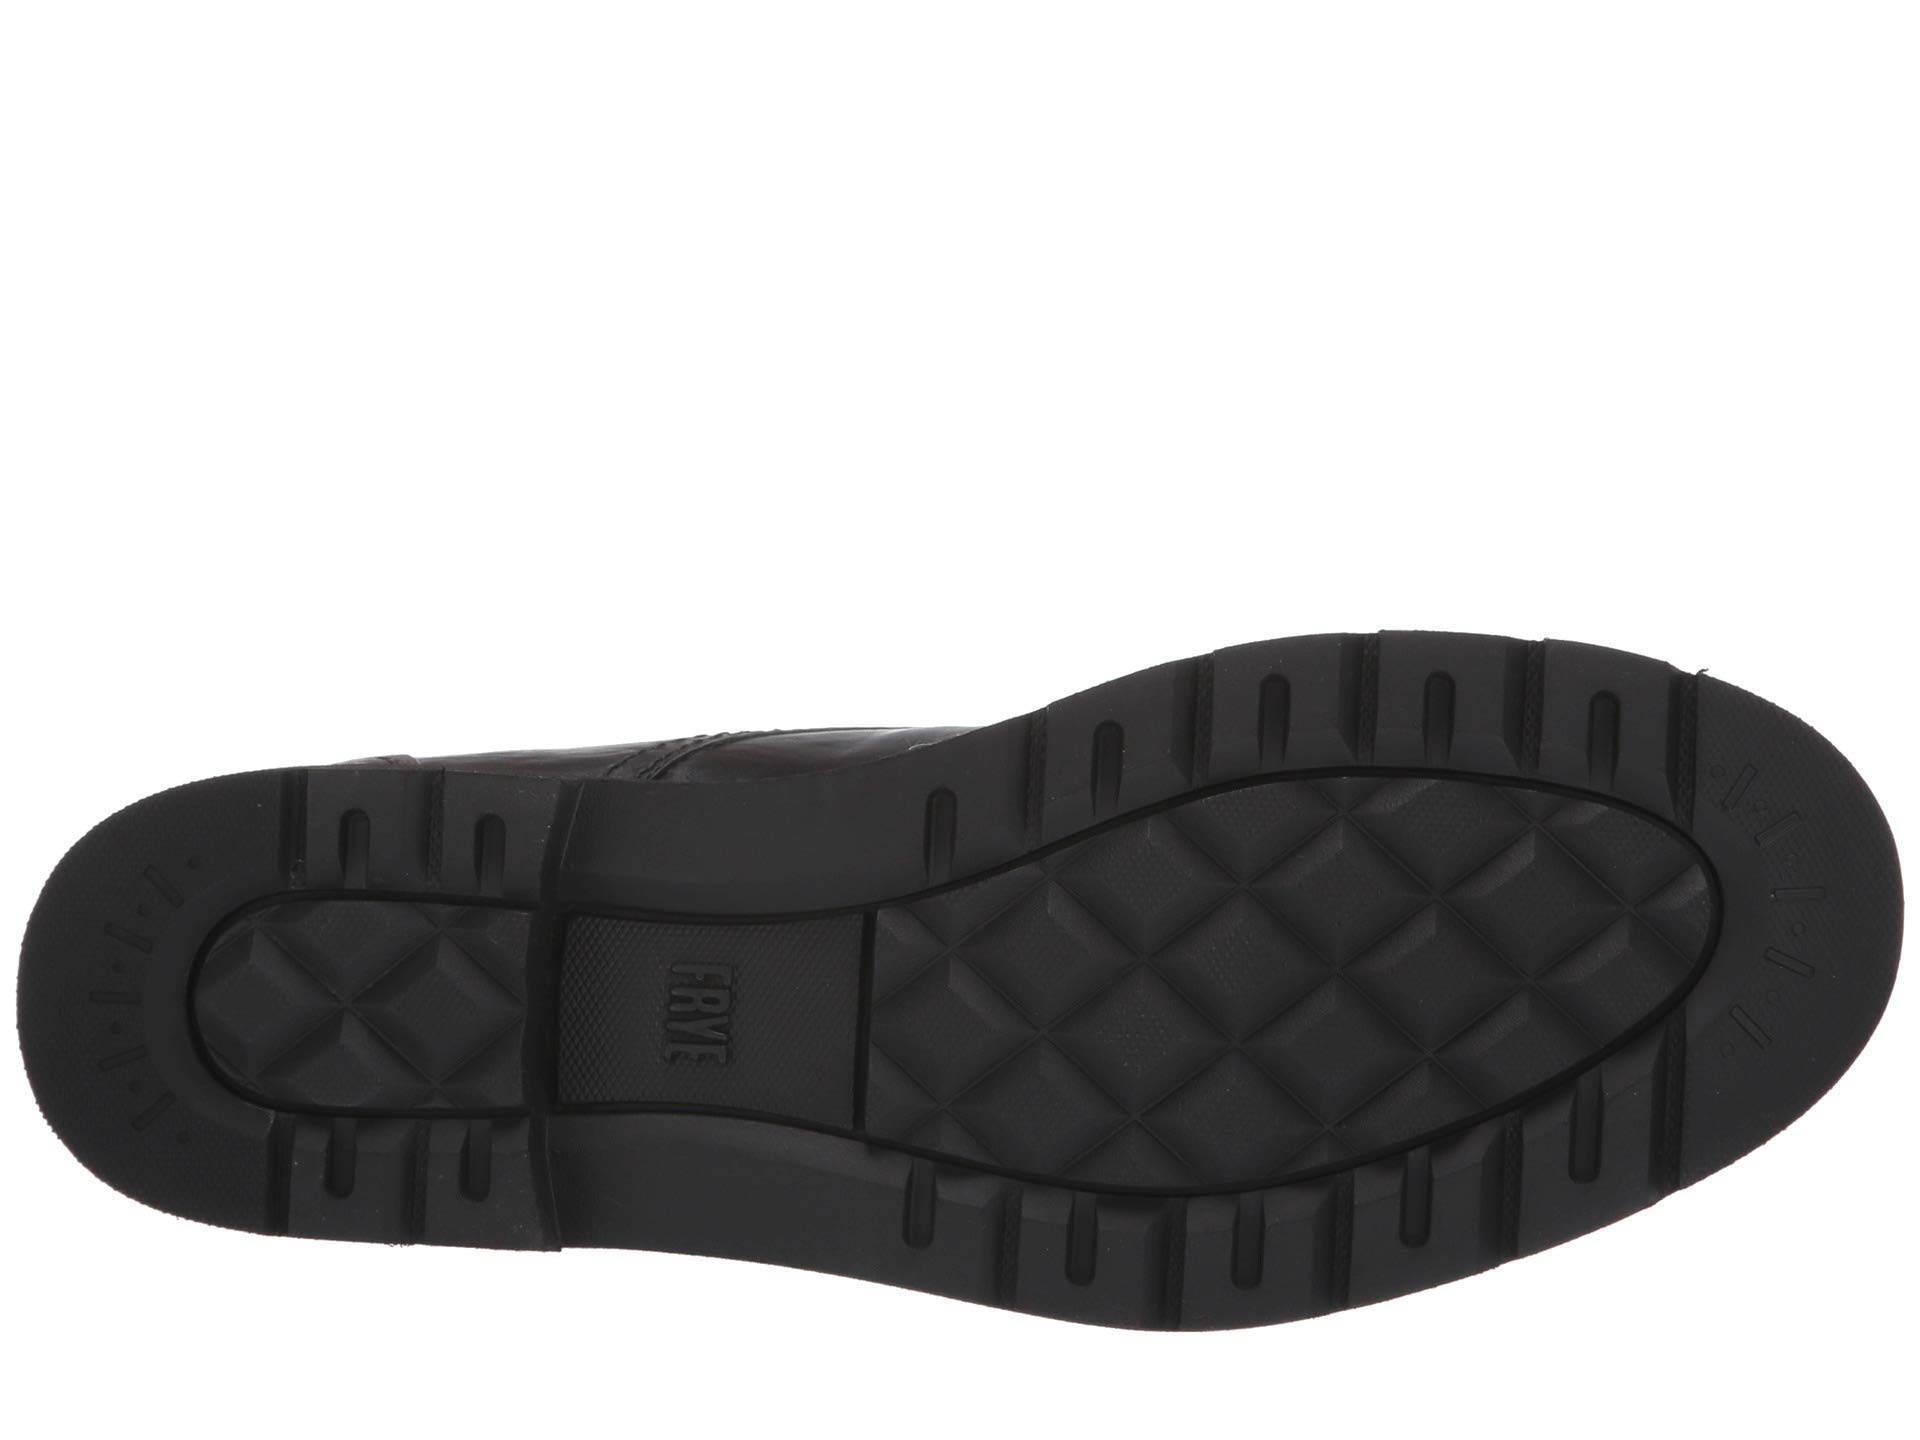circle: (1683, 711, 1829, 1174), (91, 821, 198, 1175)
quad: (907, 846, 1398, 1150), (1407, 781, 1686, 1038), (1683, 711, 1829, 1174), (215, 905, 529, 1100), (91, 821, 198, 1175)
